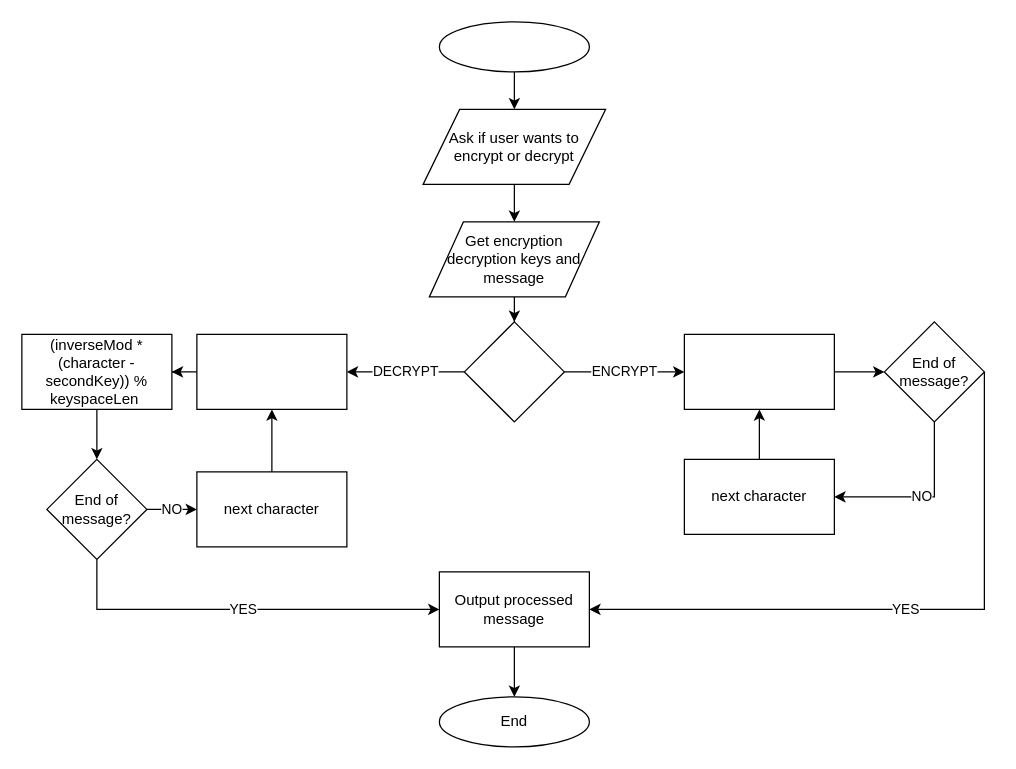
This 1016x769 diagram has some shape labels left out. Each missing label, with the centre of its shape:
(firstKey * character + secondKey) % keyspaceLen: the point at 758,371
Encrypt or decrypt?: the point at 513,371
inverse mod of character: the point at 271,371
Start: the point at 513,46
